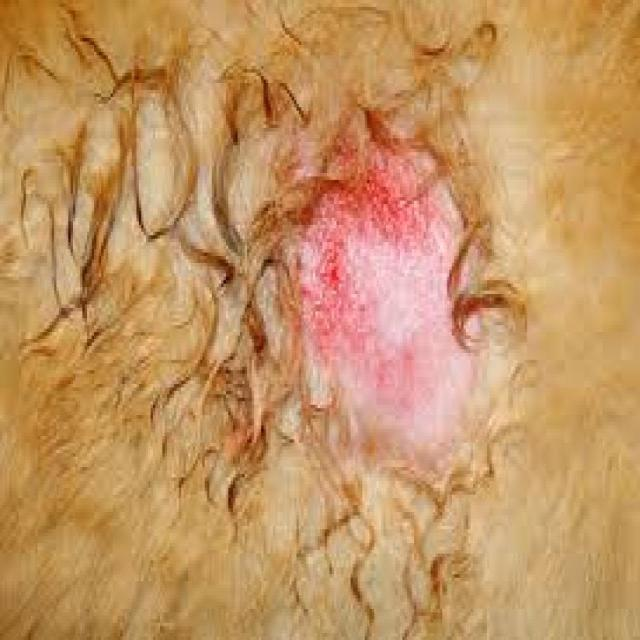hac lao: (158, 90, 612, 565)
